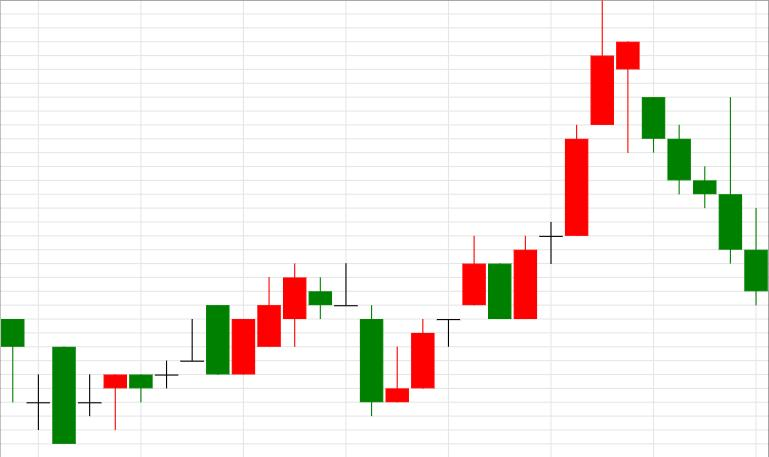hanging_man_fall: (514, 1, 639, 319)
three_black_crows_fall: (514, 1, 716, 319)
